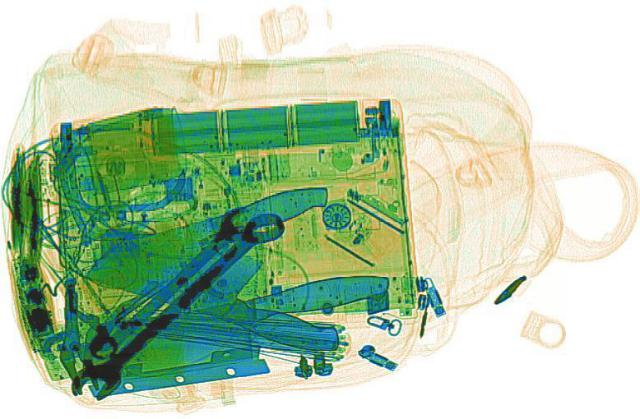Knife: (73, 217, 380, 355), (61, 267, 411, 384), (74, 174, 342, 277)
Wrench: (60, 206, 294, 403)
